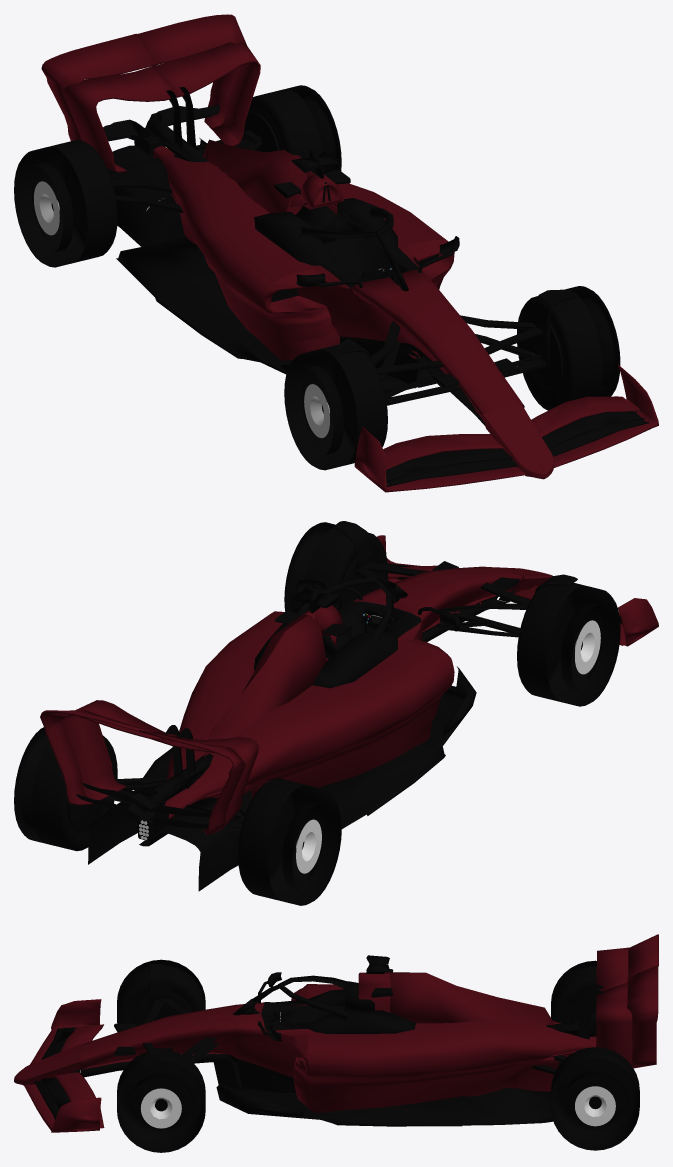
Rendered from car.glb.
The picture shows the model from 3 angles, top to bottom: view 1: azimuth 30°, elevation 25°; view 2: azimuth 150°, elevation 25°; view 3: azimuth 270°, elevation 25°; orthographic projection. The views are drawn at different scales.
Visible parts, largest first — view 1: Object_42, Object_0, Object_74, Object_62, Object_69; view 2: Object_42, Object_0, Object_74, Object_69, Object_62; view 3: Object_42, Object_0, Object_74, Object_62, Object_69.
Boxes of the visible parts, <box> form: Object_42: <box>41,14,554,479</box>; Object_0: <box>67,87,649,486</box>; Object_74: <box>14,85,620,470</box>; Object_62: <box>354,364,658,492</box>; Object_69: <box>34,181,383,437</box>; Object_42: <box>40,566,552,835</box>; Object_0: <box>68,521,622,891</box>; Object_74: <box>14,522,620,905</box>; Object_69: <box>296,615,600,873</box>; Object_62: <box>377,535,658,646</box>; Object_42: <box>14,934,658,1112</box>; Object_0: <box>34,955,630,1126</box>; Object_74: <box>117,959,639,1152</box>; Object_62: <box>24,999,104,1132</box>; Object_69: <box>140,1012,615,1128</box>.
Bounding box in the file's own units: 1.78 × 1.08 × 4.46.
